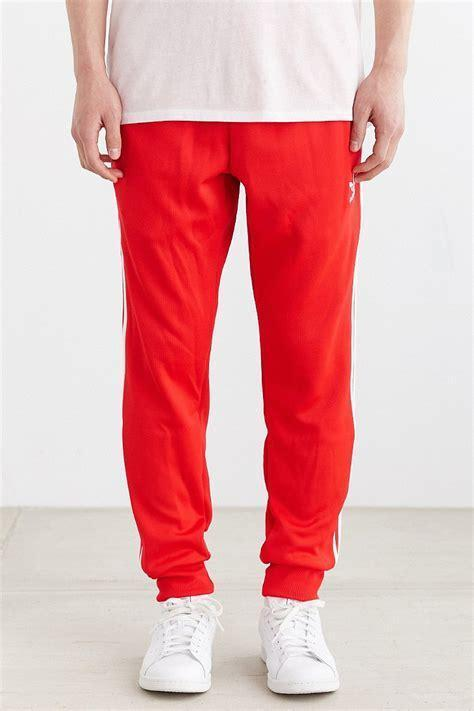pants: (104, 121, 362, 601)
